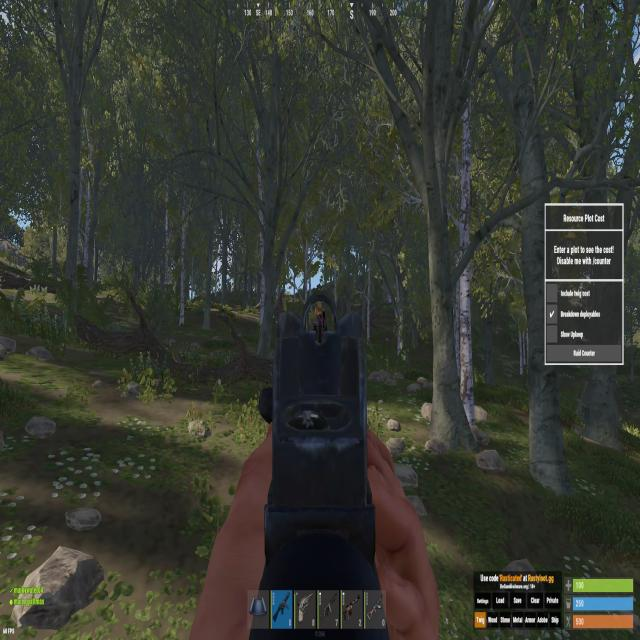Player: (311, 301, 328, 331)
